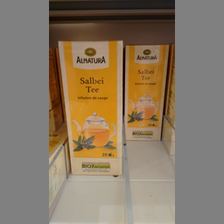tea: (57, 38, 124, 176), (124, 44, 169, 141)
